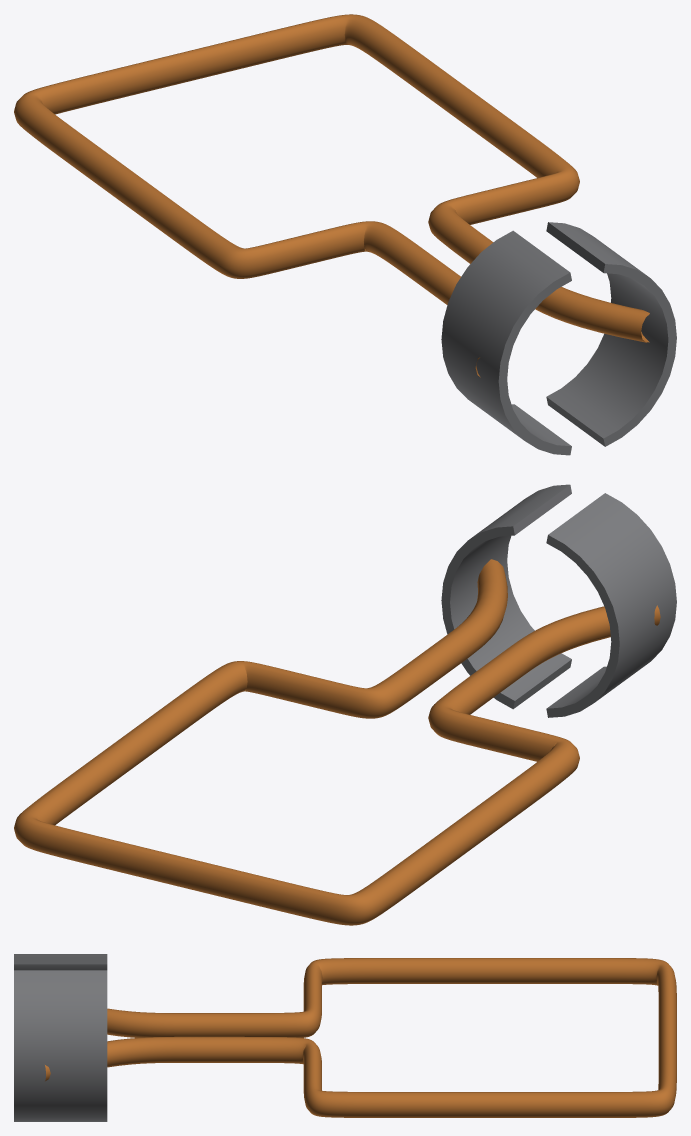
File: DCcoil11.glb
3 views of the same model, one above another, from view 1: azimuth 30°, elevation 25°; view 2: azimuth 150°, elevation 25°; view 3: azimuth 270°, elevation 25° (orthographic). The views are drawn at different scales.
Visible parts, largest first — view 1: NURBSパス.006, 円柱.003, 円柱.001; view 2: NURBSパス.006, 円柱.003, 円柱.001; view 3: NURBSパス.006, 円柱.001, 円柱.003.
Boxes of the visible parts, x1,y1,x2,y2 form: NURBSパス.006: (14,14,649,377); 円柱.003: (441,230,571,455); 円柱.001: (546,222,676,446); NURBSパス.006: (14,559,660,925); 円柱.003: (546,493,676,717); 円柱.001: (441,484,571,709); NURBSパス.006: (45,958,676,1117); 円柱.001: (14,970,107,1121); 円柱.003: (14,954,107,970).
Bounding box in the file's own units: 3.68 × 1.77 × 7.1.
